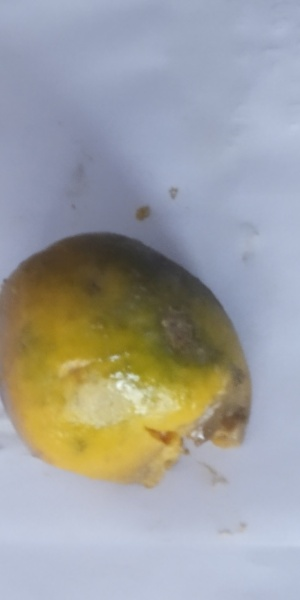BAD: (1, 228, 250, 496)
